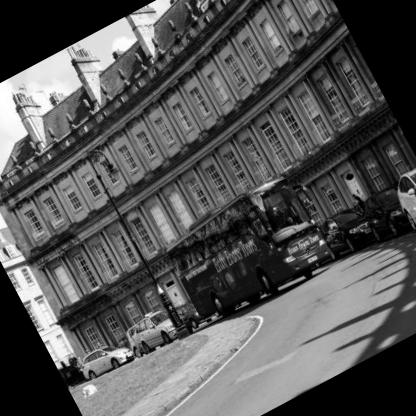bus: (150, 161, 350, 340)
car: (314, 197, 381, 266), (64, 330, 133, 390), (124, 306, 192, 366), (362, 186, 413, 249), (388, 166, 416, 238)
